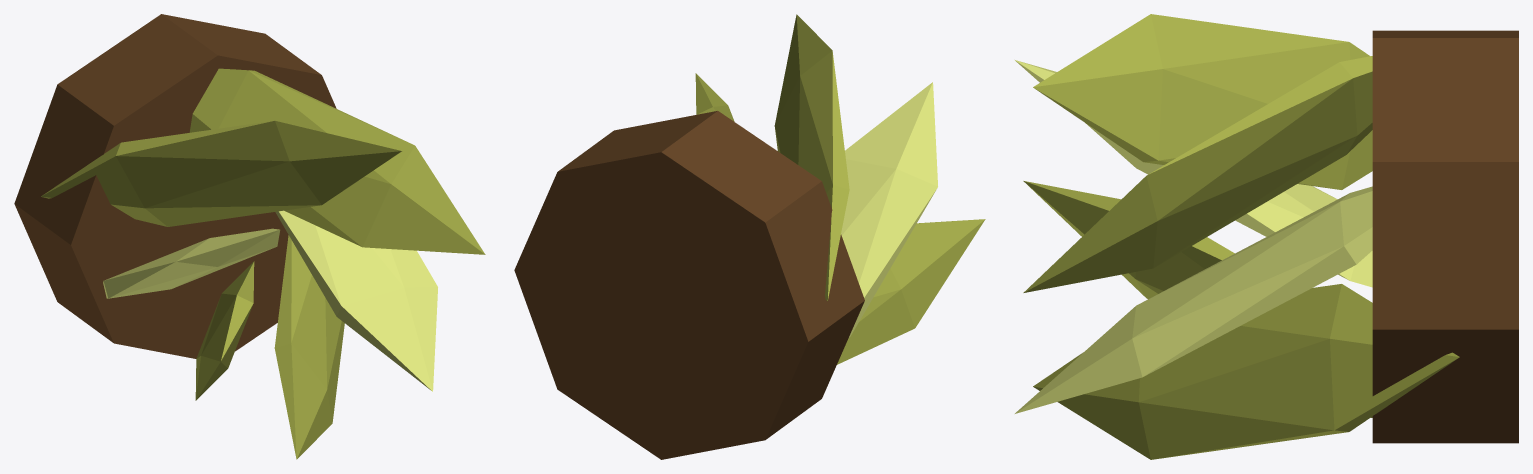
Rendered from 2_sprouting.obj.
3 renders of one model, left to right at view 1: azimuth 30°, elevation 25°; view 2: azimuth 150°, elevation 25°; view 3: azimuth 270°, elevation 25°, orthographic. The views are drawn at different scales.
Parts seen in each view (by area): view 1: lantadyme_2_sprouting; view 2: lantadyme_2_sprouting; view 3: lantadyme_2_sprouting.
Part boxes in pixels (x1,y1,x2,y2): lantadyme_2_sprouting: [14, 14, 485, 459]; lantadyme_2_sprouting: [514, 14, 985, 459]; lantadyme_2_sprouting: [1015, 14, 1518, 459].
Size of the model in its own units: 0.12 by 0.1235 by 0.138.
